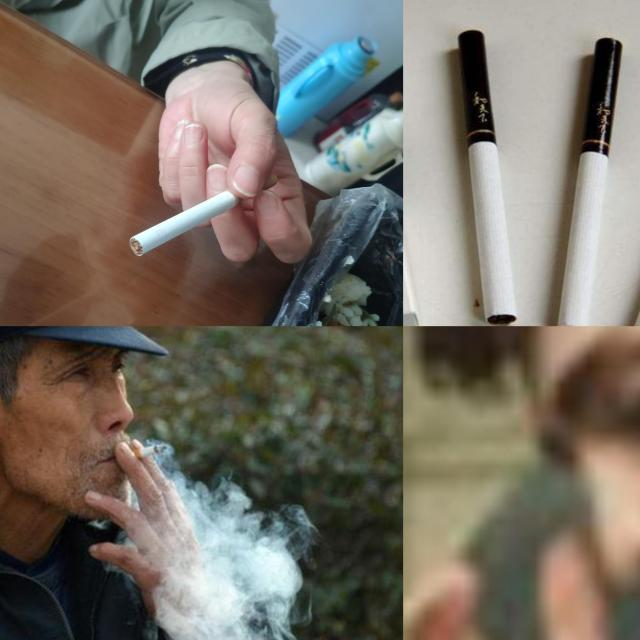cigarette: (556, 37, 624, 326), (458, 30, 518, 326), (129, 171, 279, 256), (115, 444, 168, 464)
